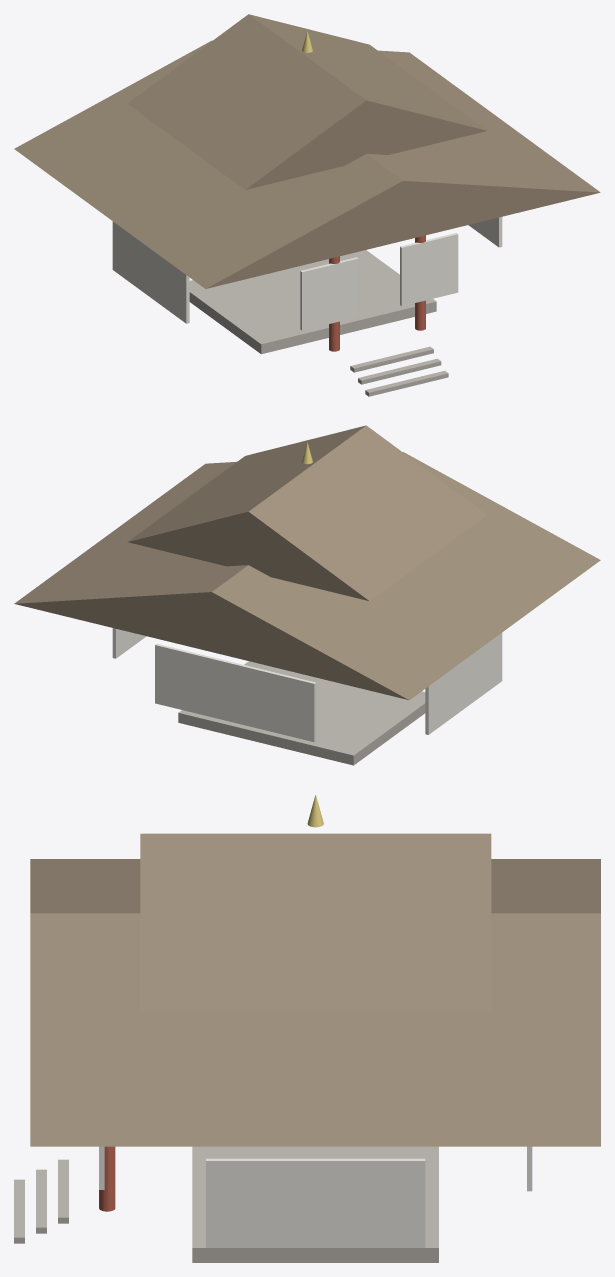
The model's file is pagoda.glb.
3 views of the same model, one above another, from view 1: azimuth 30°, elevation 25°; view 2: azimuth 150°, elevation 25°; view 3: azimuth 270°, elevation 25° (orthographic). The views are drawn at different scales.
Parts seen in each view (by area): view 1: Lower_Roof, Upper_Roof, Cube, Cube.007, Cube.005, Cube.004, Cube.001, Cube.002, Cube.003, Cube.008; view 2: Lower_Roof, Upper_Roof, Cube.006, Cube, Cube.007, Cube.008; view 3: Lower_Roof, Upper_Roof, Cube.008, Cube, Cylinder.001, Cube.001, Cube.002, Cube.003.
Boxes of the visible parts, <box> form: Lower_Roof: <box>14,40,600,288</box>; Upper_Roof: <box>127,14,486,189</box>; Cube: <box>189,250,436,354</box>; Cube.007: <box>112,221,189,323</box>; Cube.005: <box>400,233,458,306</box>; Cube.004: <box>300,257,358,330</box>; Cube.001: <box>350,346,433,372</box>; Cube.002: <box>358,358,441,384</box>; Cube.003: <box>365,370,448,396</box>; Cube.008: <box>468,217,502,247</box>; Lower_Roof: <box>14,452,600,700</box>; Upper_Roof: <box>127,425,486,601</box>; Cube.006: <box>155,643,316,742</box>; Cube: <box>178,661,425,765</box>; Cube.007: <box>425,633,502,734</box>; Cube.008: <box>112,628,146,658</box>; Lower_Roof: <box>30,859,600,1146</box>; Upper_Roof: <box>140,833,491,1011</box>; Cube.008: <box>206,1158,425,1247</box>; Cube: <box>192,1146,438,1262</box>; Cylinder.001: <box>99,1146,115,1211</box>; Cube.001: <box>58,1159,68,1223</box>; Cube.002: <box>36,1169,46,1233</box>; Cube.003: <box>14,1179,24,1243</box>.
Bounding box in the file's own units: 12.4 × 8.46 × 10.7.
